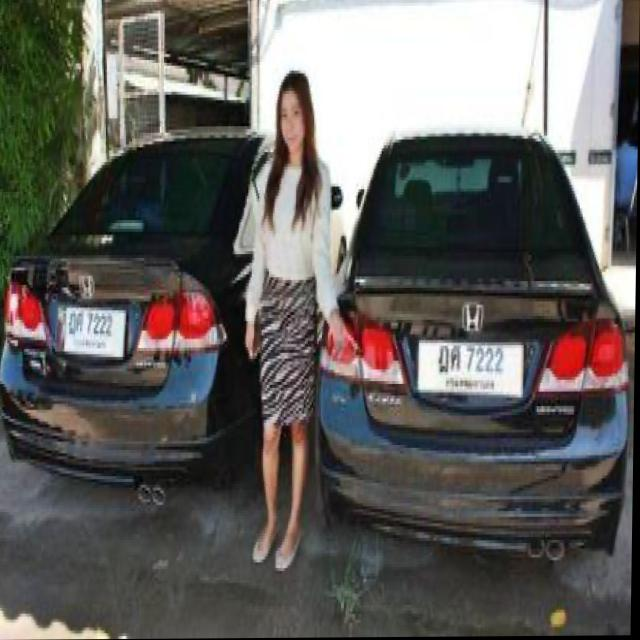licence: (416, 337, 523, 396)
